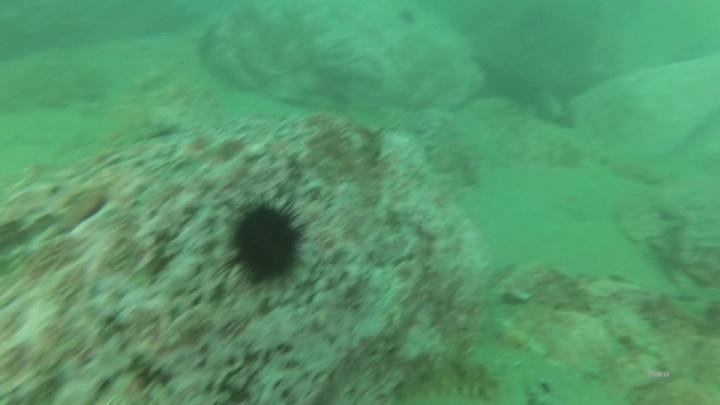echinus: (231, 200, 301, 287)
holothurian: (394, 356, 504, 405)
